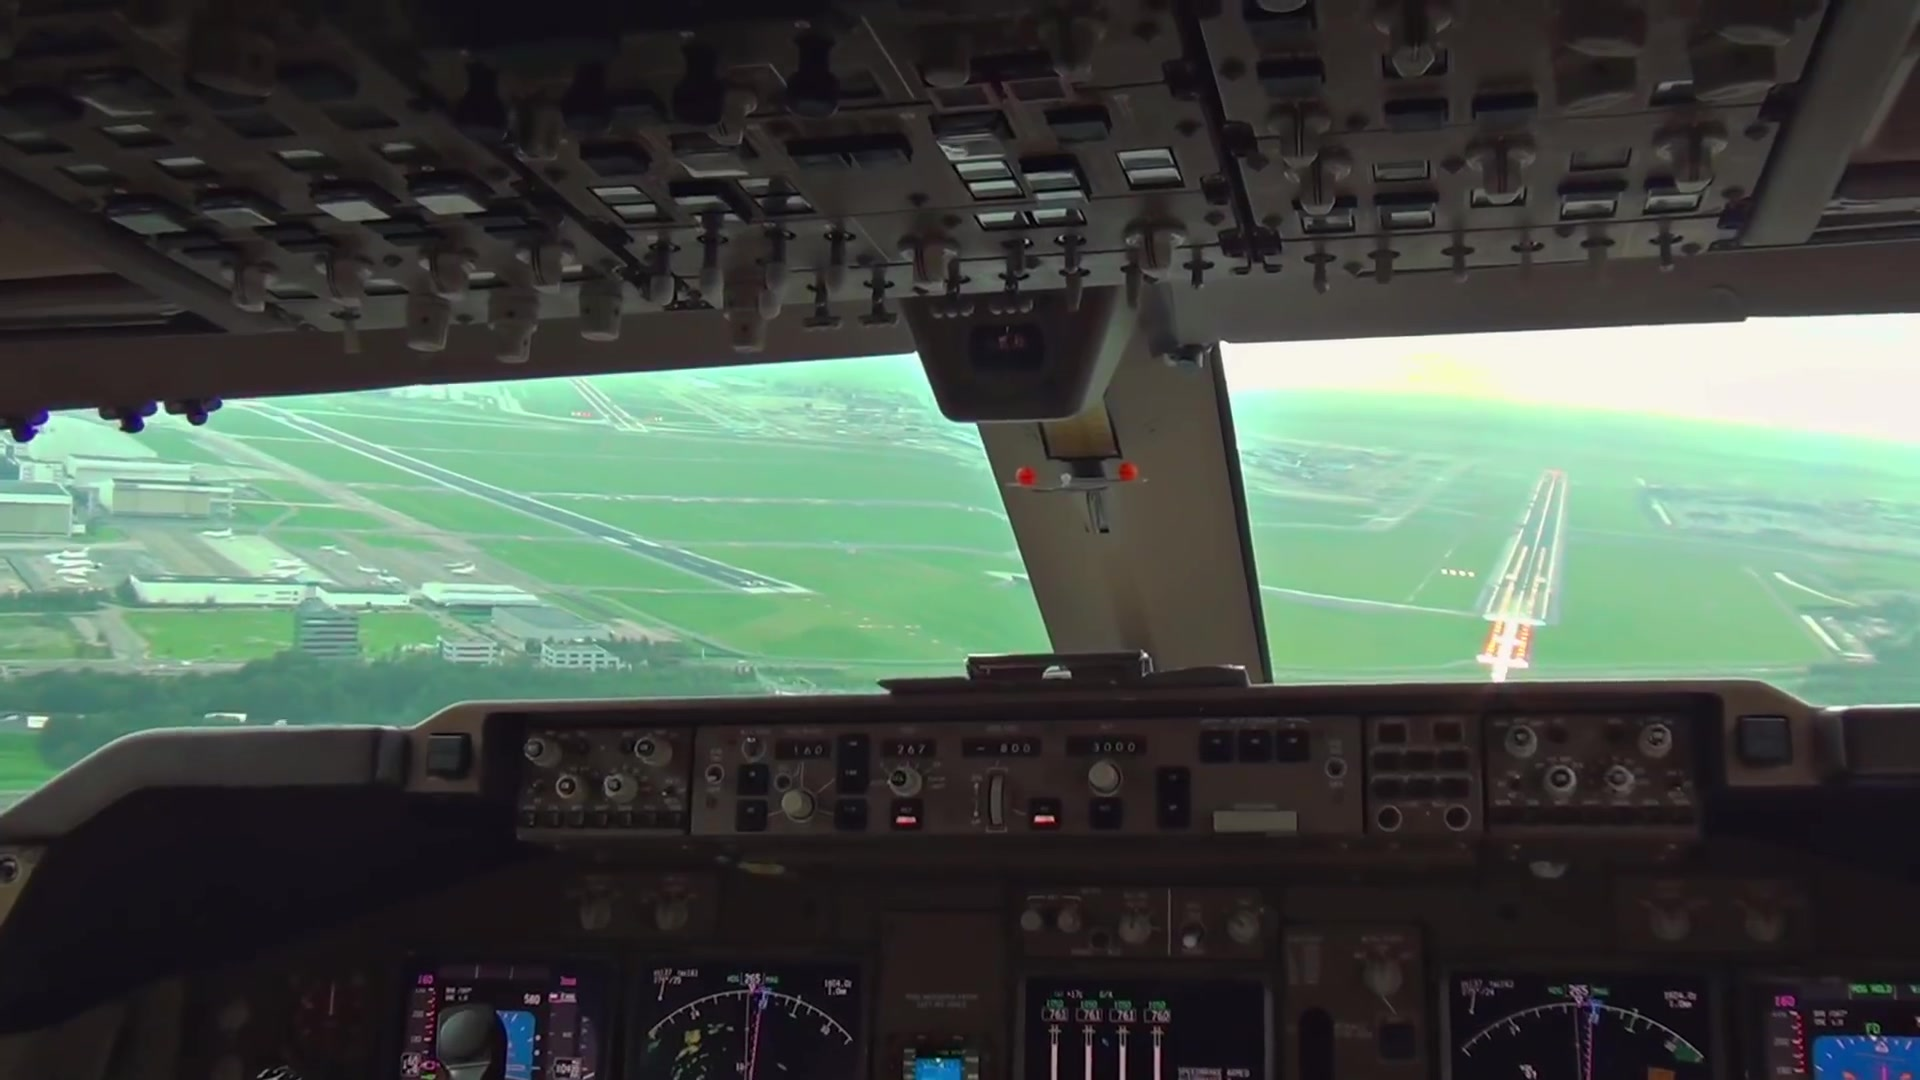runway: (237, 402, 808, 592), (1480, 473, 1575, 634), (556, 376, 644, 438)
